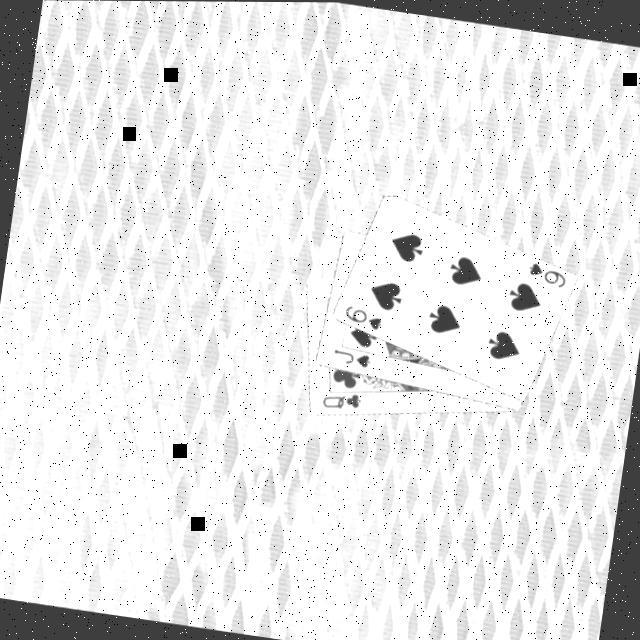6S: (340, 302, 387, 335), (524, 258, 571, 291)
JS: (330, 347, 376, 372)
QC: (318, 387, 366, 417)
